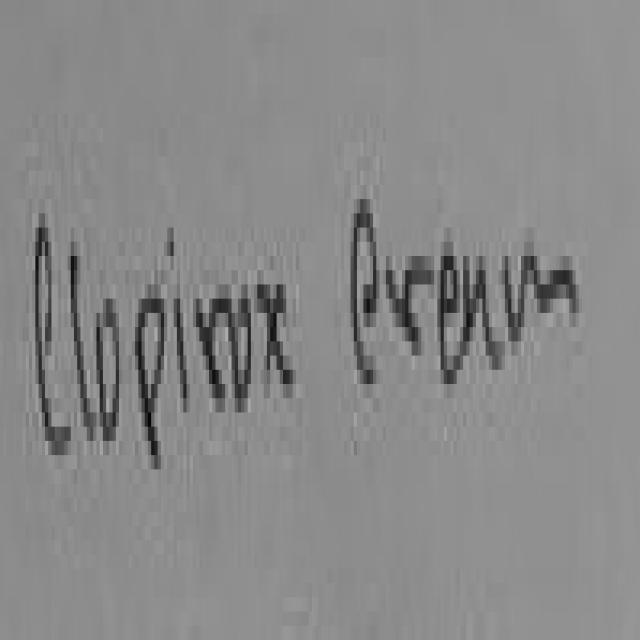C: (24, 173, 72, 544), (346, 154, 384, 444)
a: (463, 211, 503, 417)
e: (434, 200, 464, 420)
i: (162, 210, 194, 424)
l: (65, 226, 96, 457)
m: (497, 177, 584, 385)
o: (94, 263, 124, 482), (227, 245, 254, 438)
p: (130, 248, 170, 510)
r: (382, 203, 436, 404), (192, 252, 230, 442)
x: (256, 233, 300, 450)
